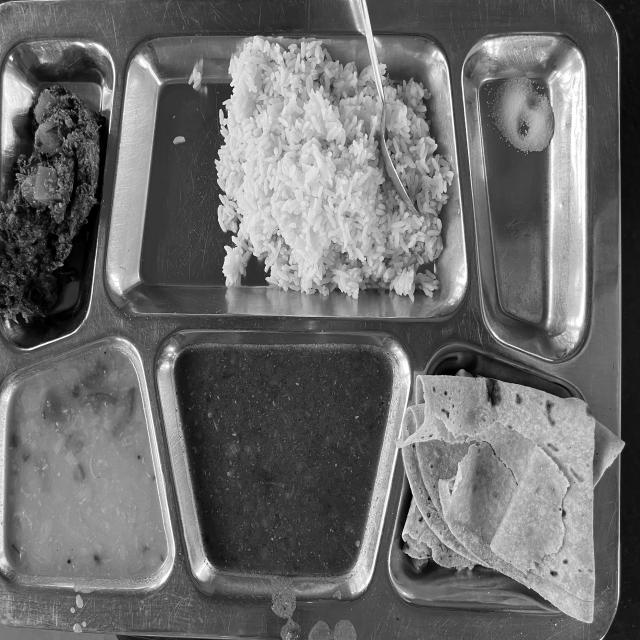100.2- Food Left: (0, 20, 609, 628)
